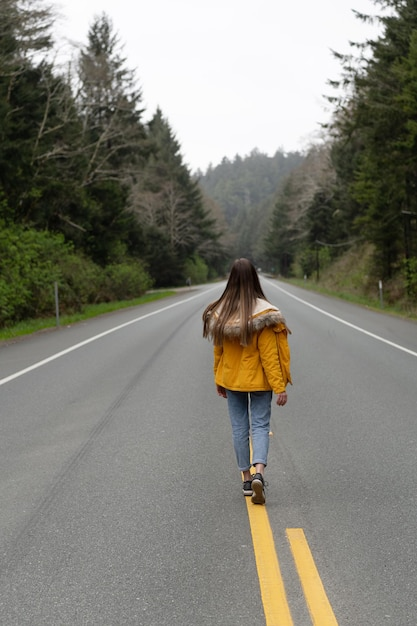Person: (196, 258, 301, 503)
